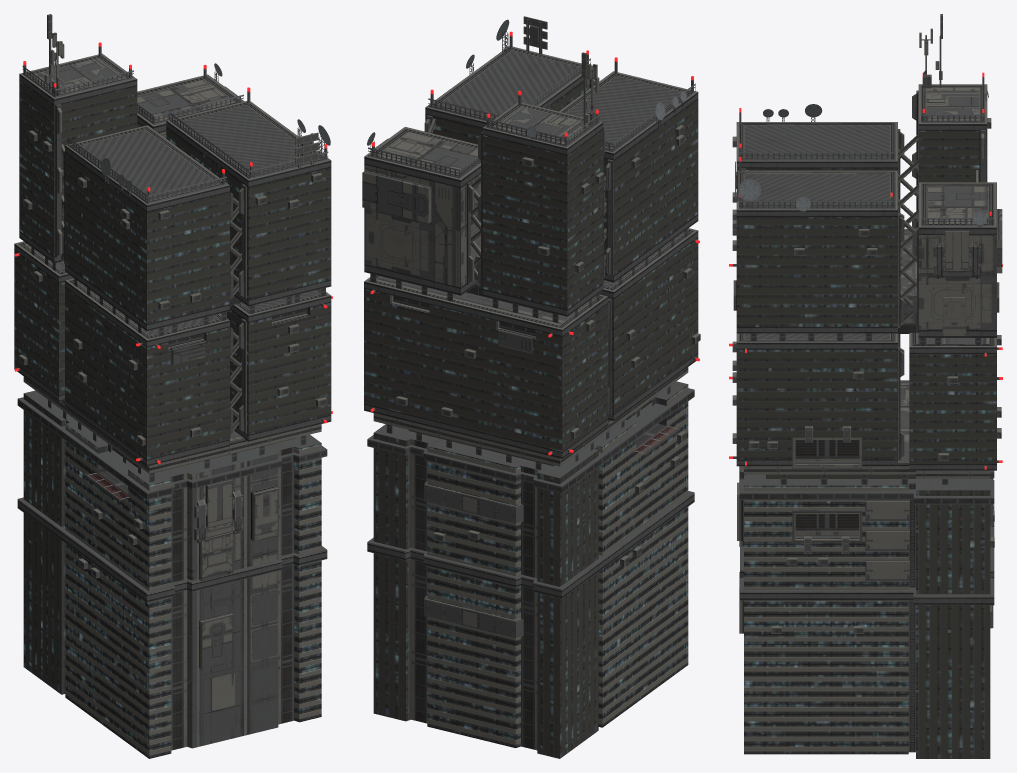
The model's file is Skyscraper_04.gltf.
The picture shows the model from 3 angles, left to right: view 1: azimuth 30°, elevation 25°; view 2: azimuth 150°, elevation 25°; view 3: azimuth 270°, elevation 25°; orthographic projection. The views are drawn at different scales.
Parts seen in each view (by area): view 1: Skyscraper_04; view 2: Skyscraper_04; view 3: Skyscraper_04.
Boxes of the visible parts, <box> form: Skyscraper_04: <box>14,14,332,758</box>; Skyscraper_04: <box>362,16,700,758</box>; Skyscraper_04: <box>729,14,1002,758</box>.
Bounding box in the file's own units: 28.76 × 90.31 × 34.07.
Materials: 2 (2 with a texture image).
